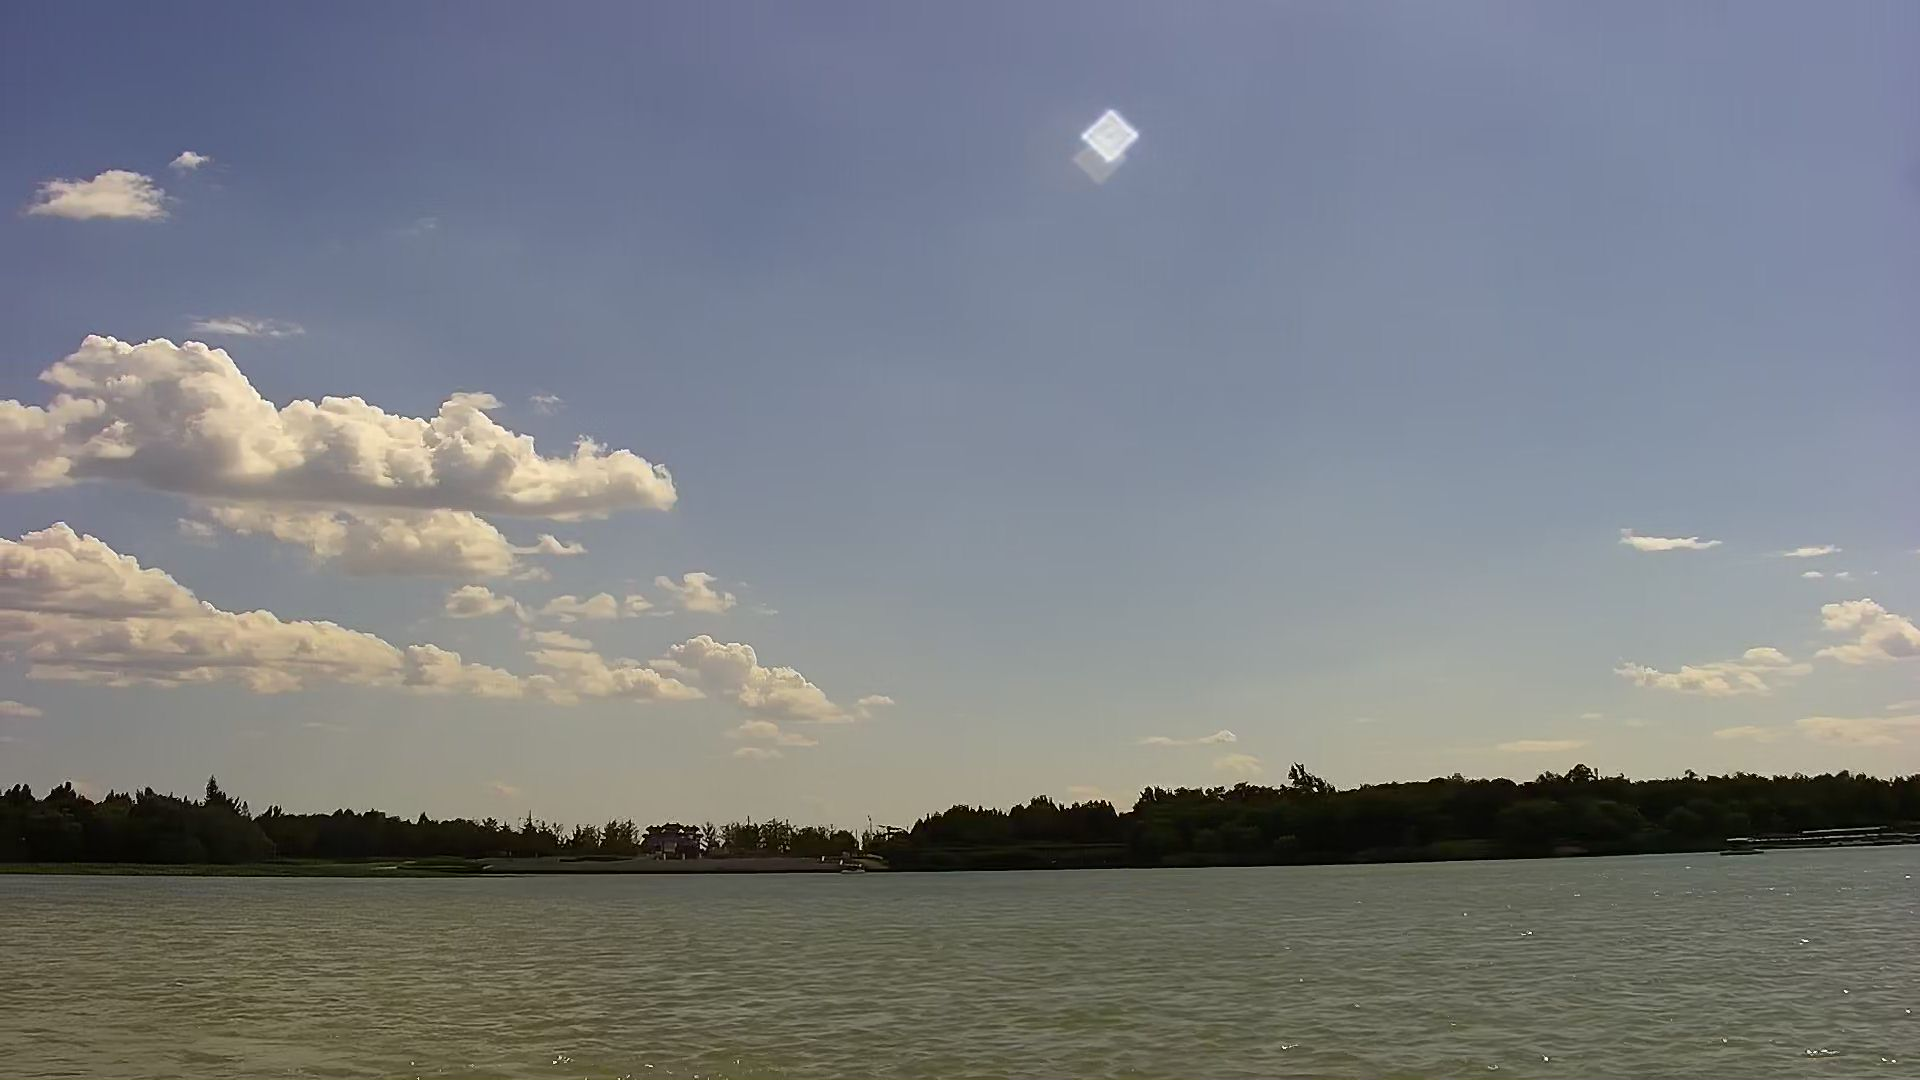boat: (1720, 829, 1760, 857)
harbor: (1759, 819, 1917, 843)
